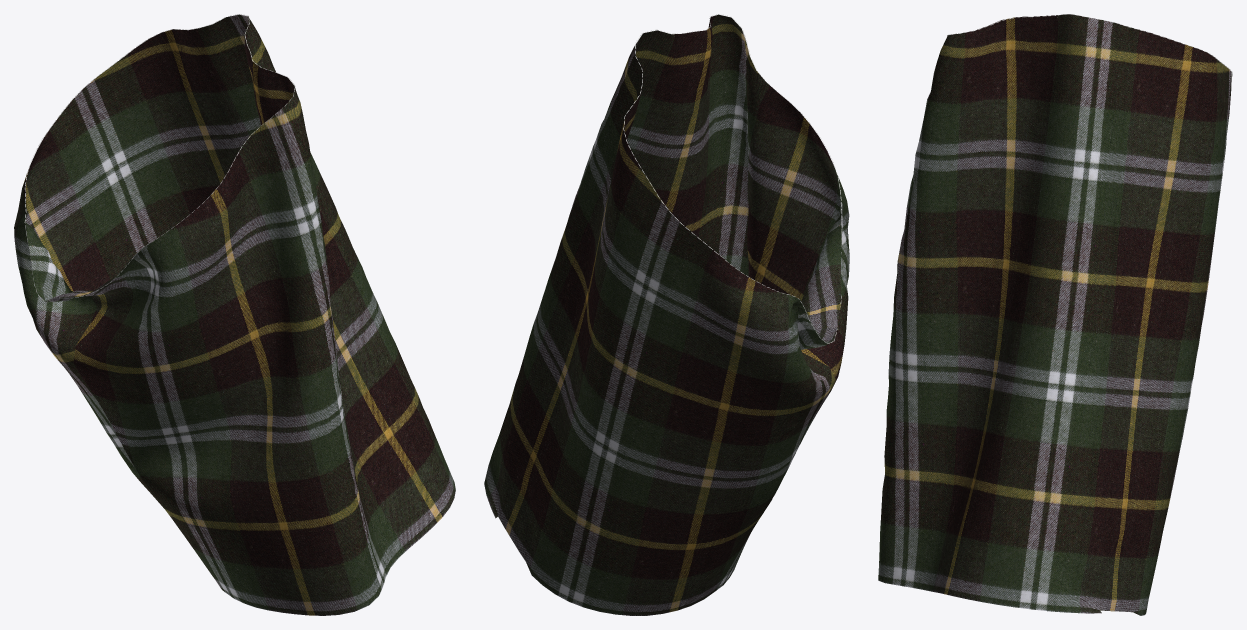
The model's file is sz2zuoxiusq.glb.
3 renders of one model, left to right at view 1: azimuth 30°, elevation 25°; view 2: azimuth 150°, elevation 25°; view 3: azimuth 270°, elevation 25°, orthographic. The views are drawn at different scales.
Visible parts, largest first — view 1: sz2zuoxiusq, _1; view 2: sz2zuoxiusq, _1; view 3: sz2zuoxiusq.
Boxes of the visible parts, x1,y1,x2,y2 form: sz2zuoxiusq: (14, 14, 455, 615); _1: (24, 14, 295, 302); sz2zuoxiusq: (484, 14, 849, 615); _1: (623, 14, 842, 343); sz2zuoxiusq: (878, 14, 1231, 615).
Bounding box in the file's own units: 2.02 × 2.93 × 1.61.
Materials: 2 (2 with a texture image).
